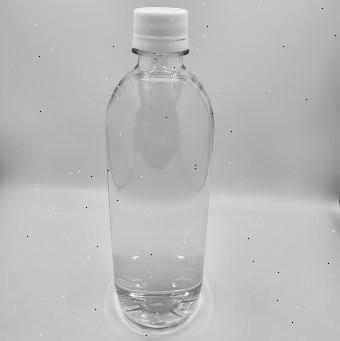bottle: (86, 7, 223, 333)
